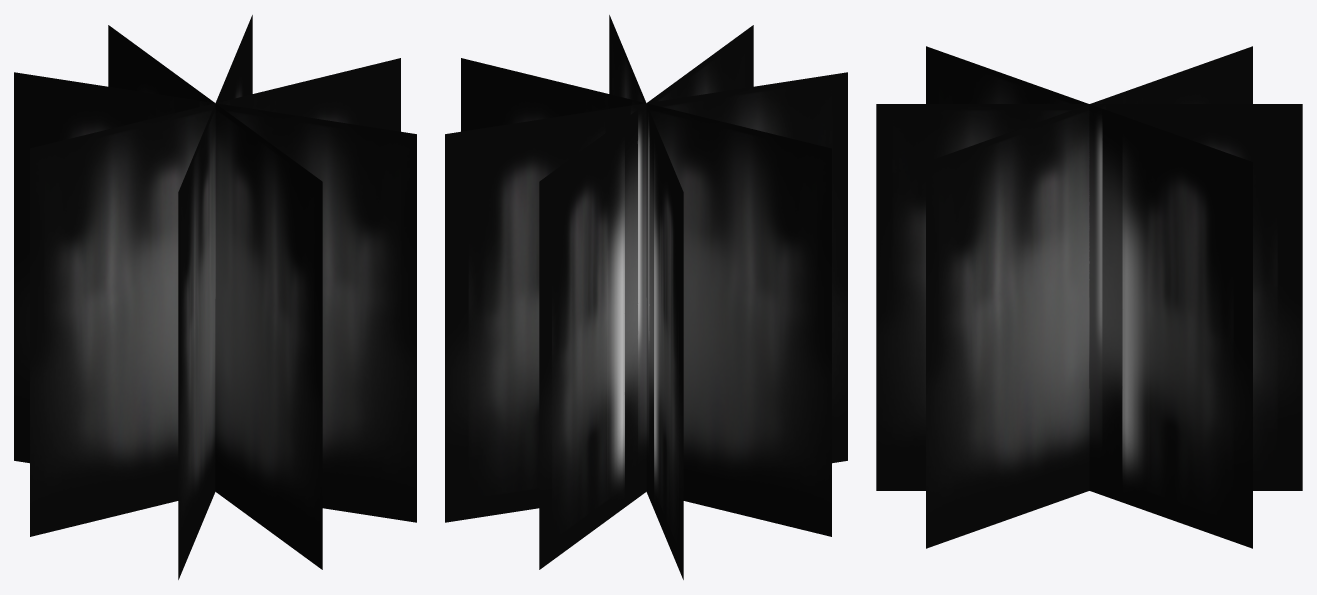
File: fx_shizimianpian_li+bianxu.FBX
3 renders of one model, left to right at view 1: azimuth 30°, elevation 25°; view 2: azimuth 150°, elevation 25°; view 3: azimuth 270°, elevation 25°, orthographic.
Parts seen in each view (by area): view 1: Plane003; view 2: Plane003; view 3: Plane003.
Part boxes in pixels (bbox=[...]): Plane003: bbox=[14, 15, 416, 579]; Plane003: bbox=[445, 15, 847, 579]; Plane003: bbox=[876, 46, 1302, 548].
Bounding box in the file's own units: 10 × 10 × 10.
1 material, 1 textured.
